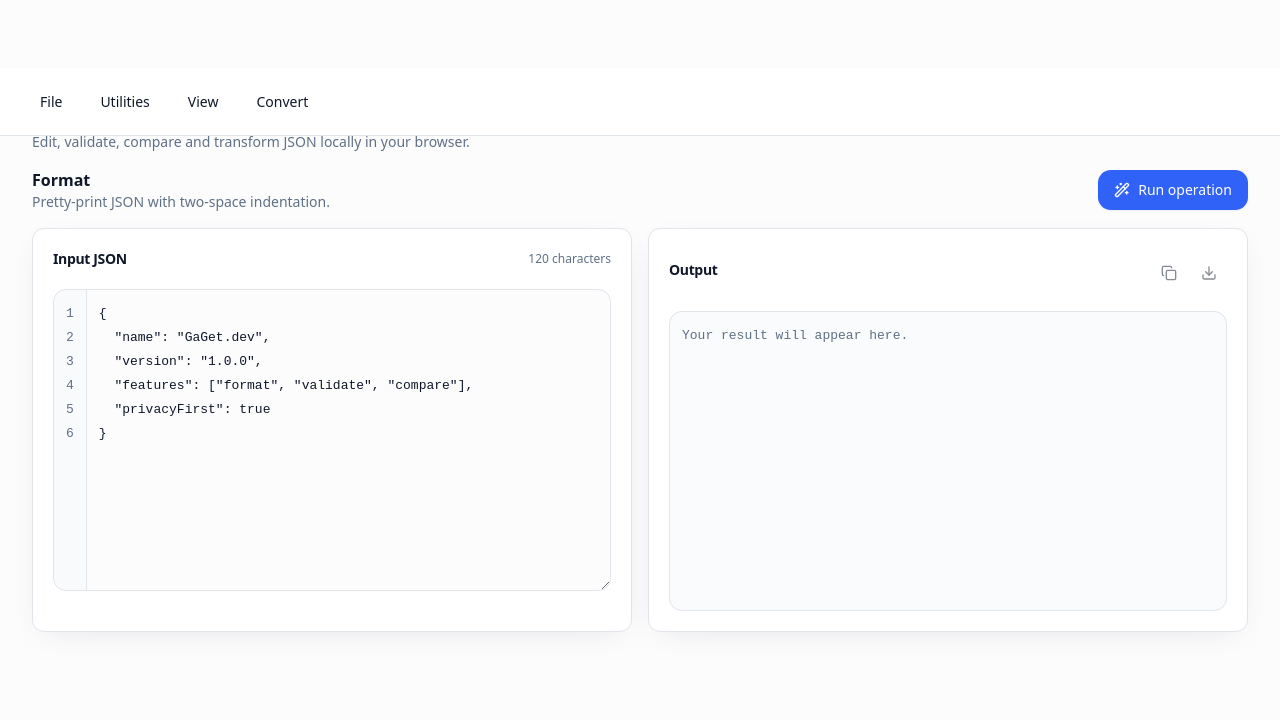
JSON workspace operations › shows a successful validation status without presenting a non-JSON output file
Click the button "Utilities" at (125, 102), box x1=84 y1=82 x2=166 y2=122
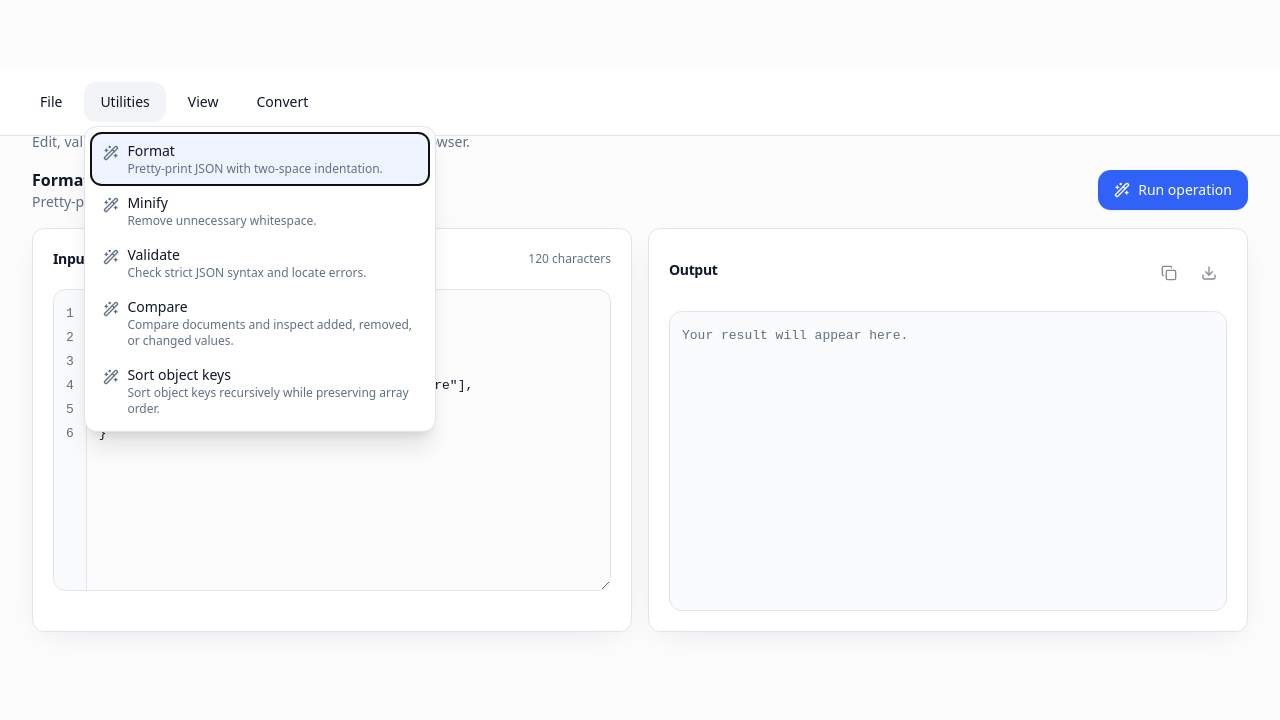
Click the menu item "Validate Check strict JSON syntax and locate errors." at (260, 262), box x1=91 y1=236 x2=429 y2=288
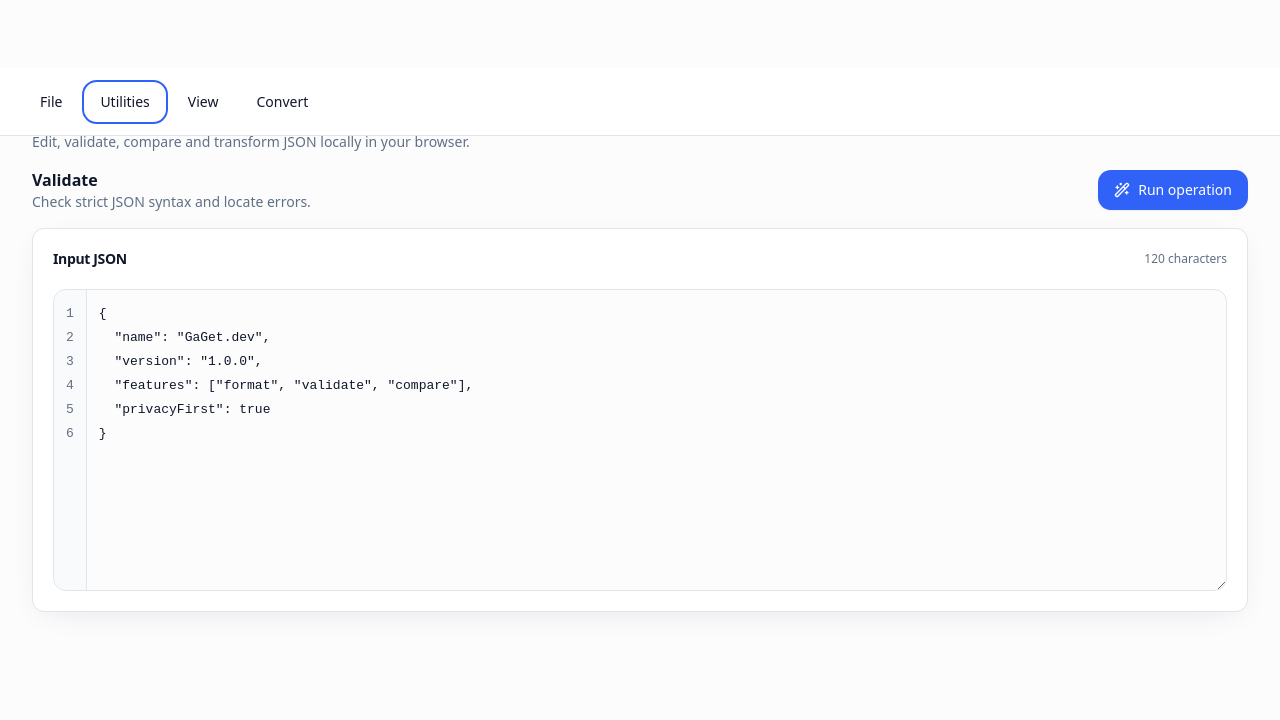
Click the button "Run operation" at (1173, 190), box x1=1098 y1=170 x2=1248 y2=210
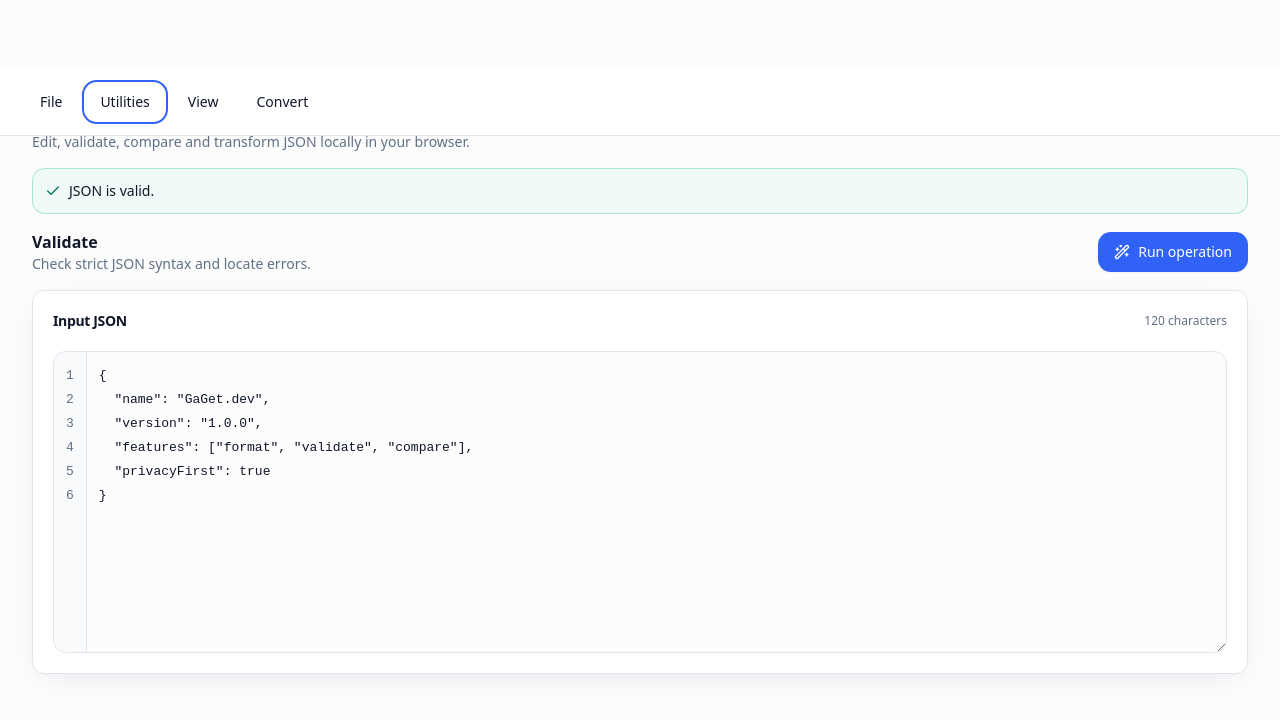
Expected: the heading labelled "Output" is not shown
Now the message shows "JSON is valid", box x1=69 y1=181 x2=154 y2=200
Click the button "File" at (51, 102), box x1=24 y1=82 x2=78 y2=122
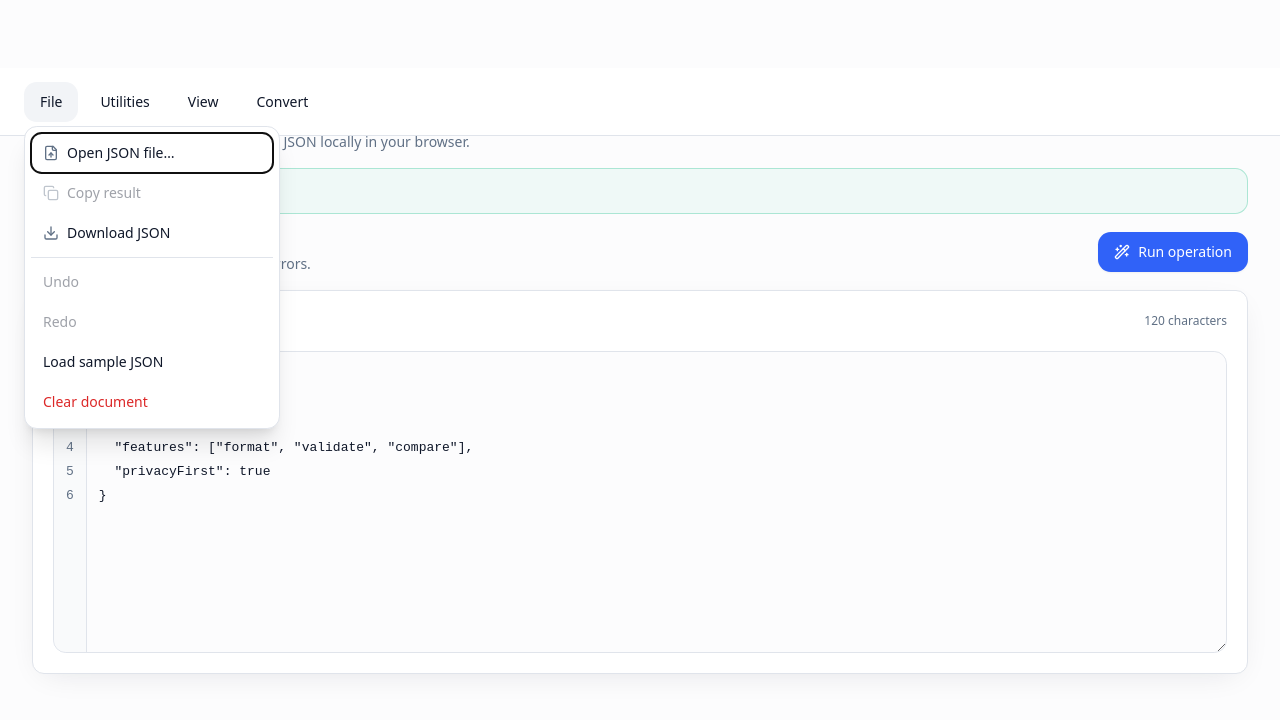
Now the menu item "Copy result" is disabled, box x1=31 y1=172 x2=273 y2=212
